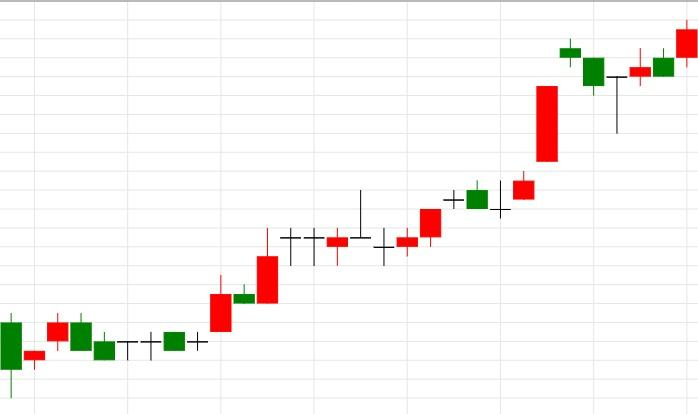bearish_engulfing_fall: (0, 313, 93, 398)
